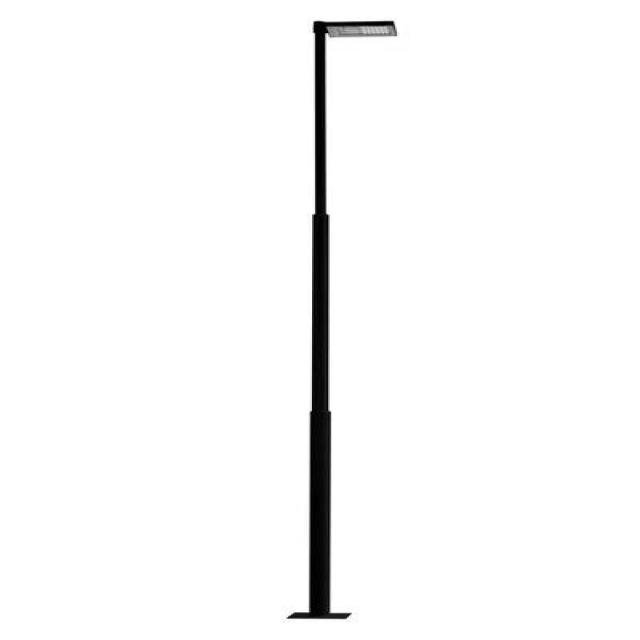Pole: (289, 20, 396, 620)
